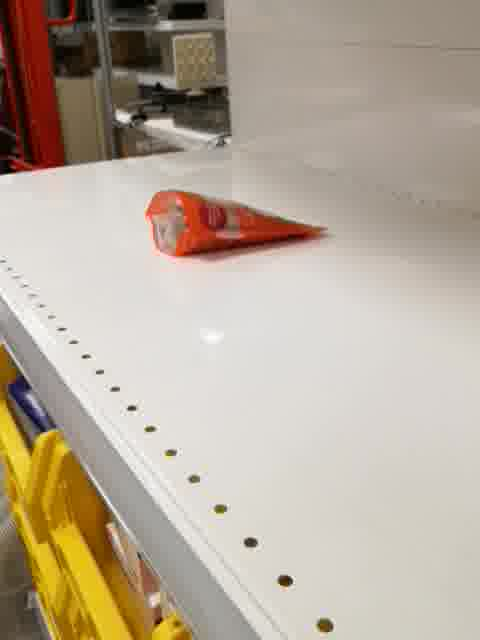whitechia: (142, 187, 333, 259)
